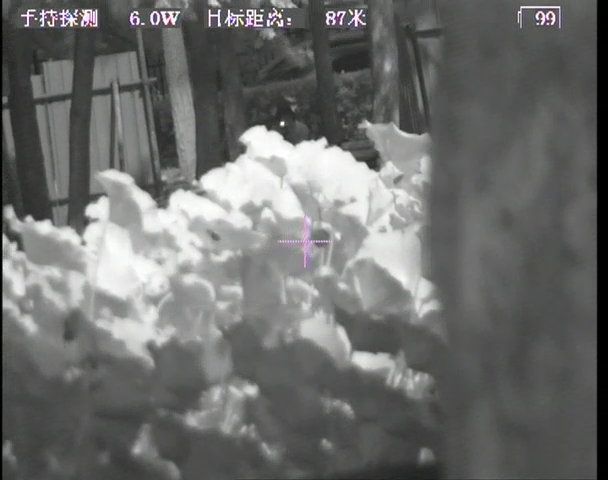my: (278, 119, 288, 129)
